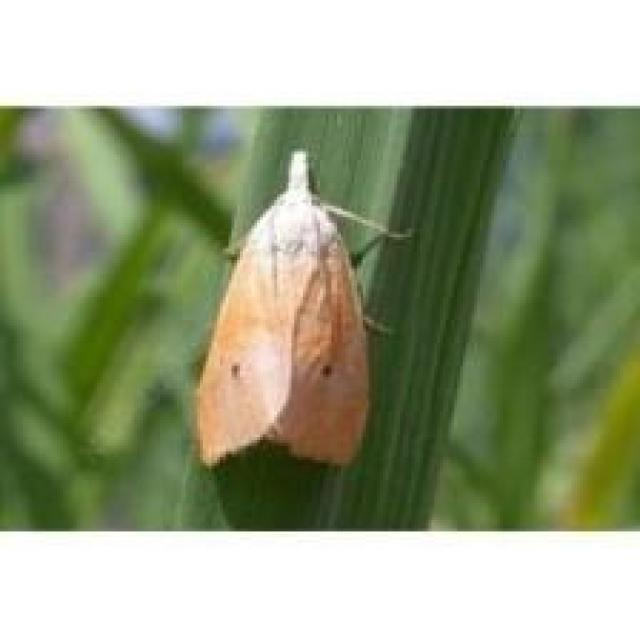yellow-stem-borer: (169, 125, 423, 468)
